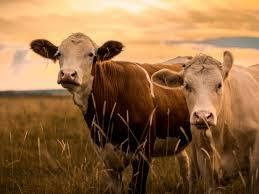cow: (29, 32, 195, 194), (150, 49, 259, 194)
